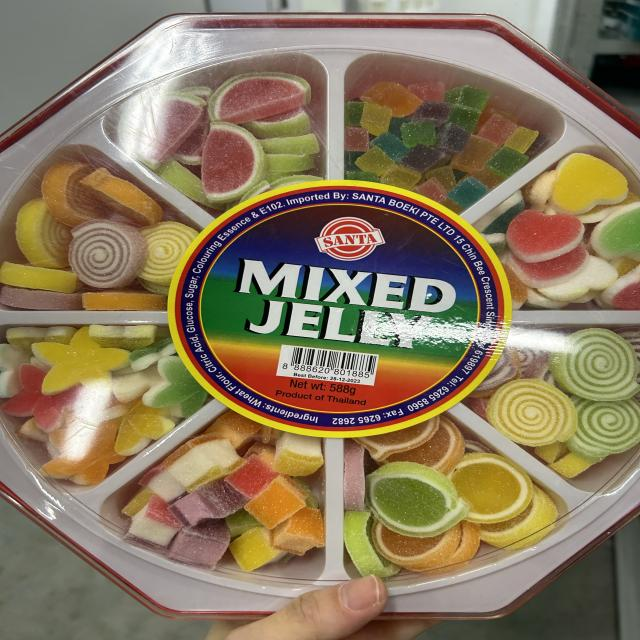object_name: (6, 19, 640, 599)
